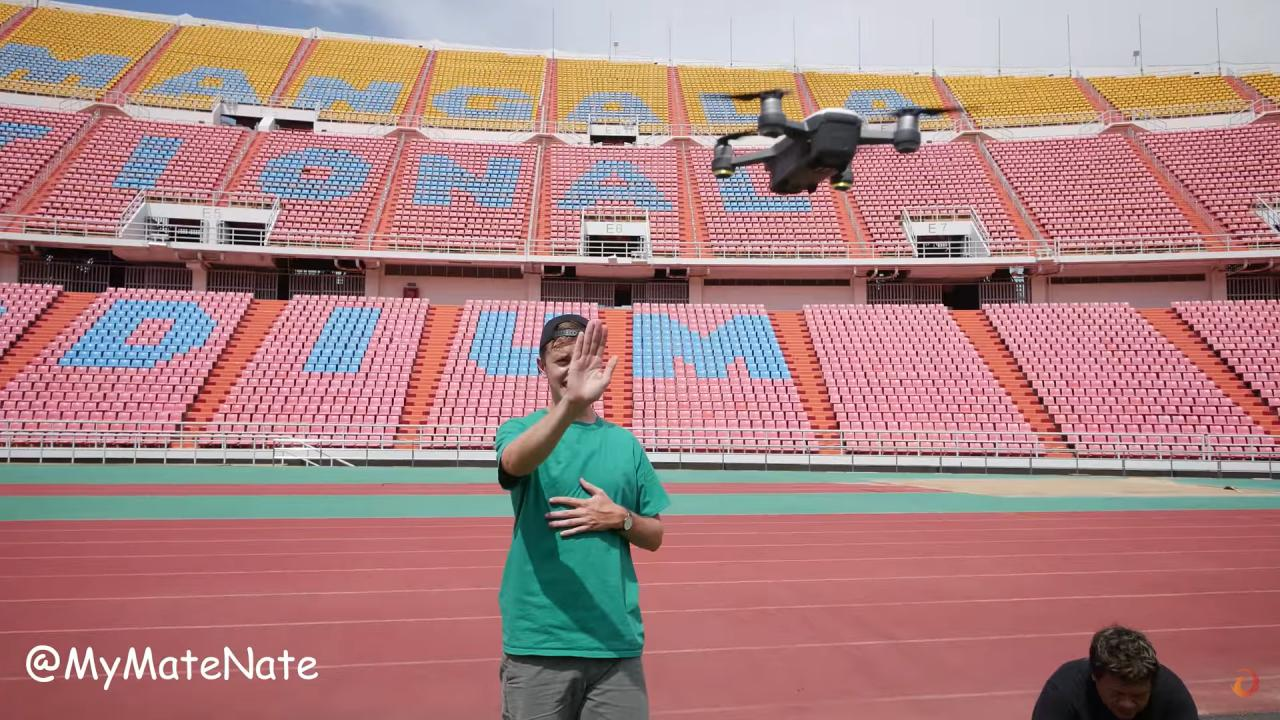Drone: (703, 76, 968, 206)
